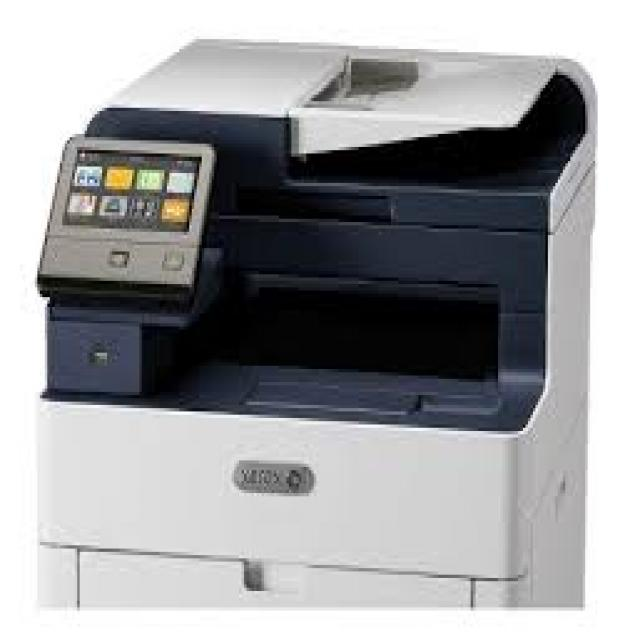printer: (26, 25, 606, 624)
